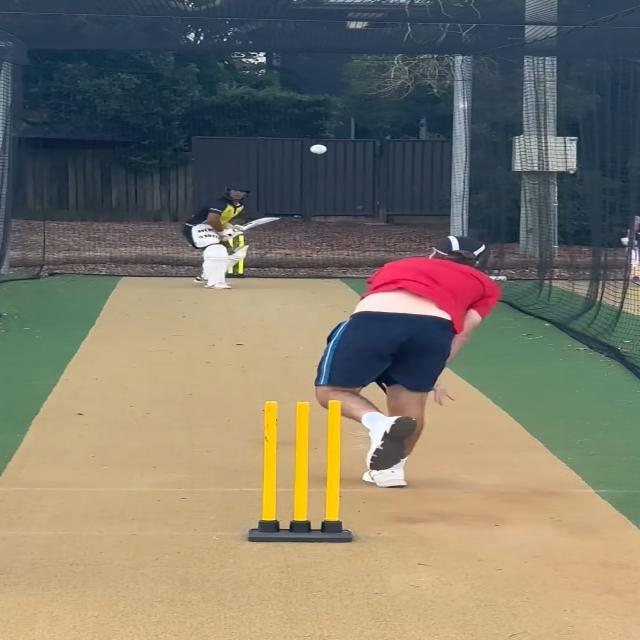ball: (306, 142, 330, 156)
stump: (249, 398, 354, 544)
